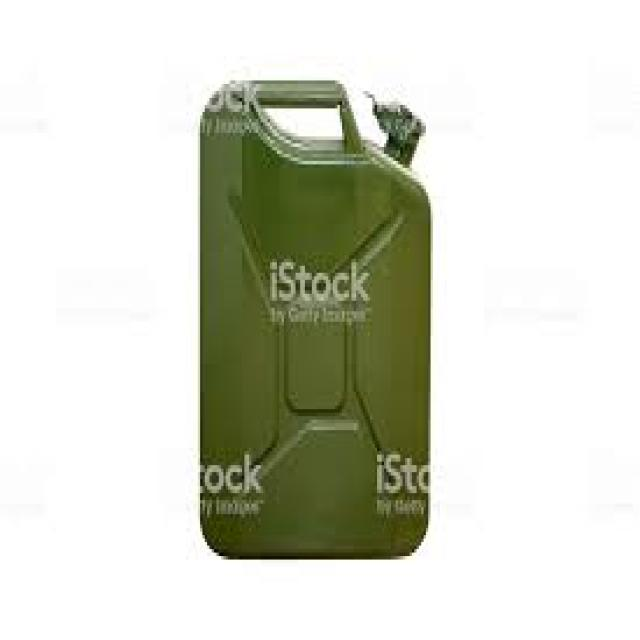gasolin: (195, 77, 435, 563)
